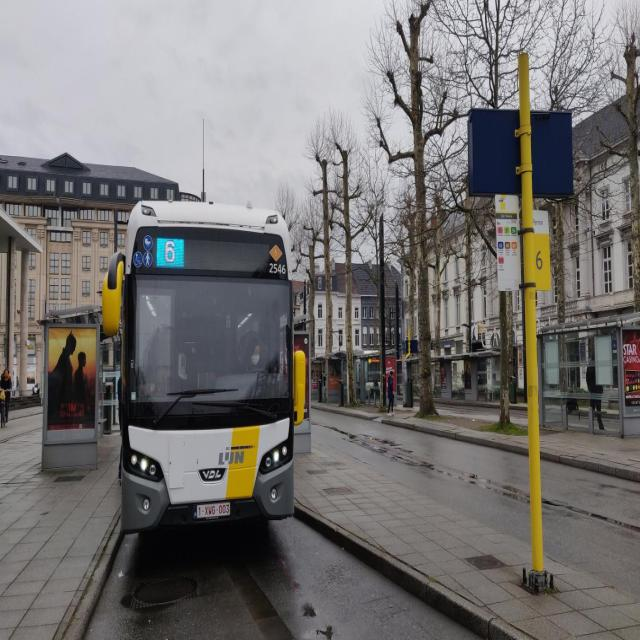bus-number: (157, 238, 183, 267)
